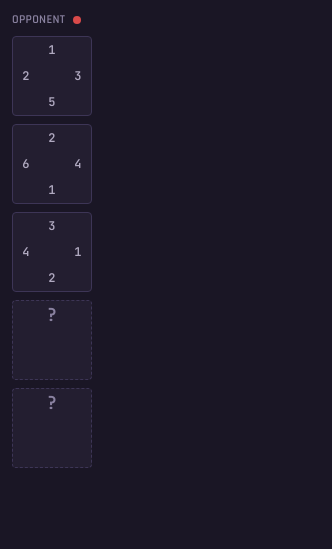
Scenario: unknown card reveal › clicking "?" on opponent turn opens a CardInput reveal form
Click the 1st button "?" at (52, 340), box [12,300,92,380]
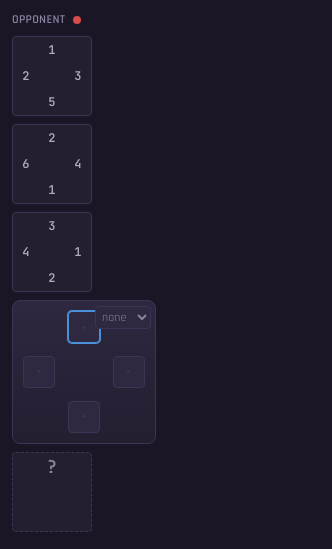
Expected: the field named "Top" is shown, [68,311,100,343]
